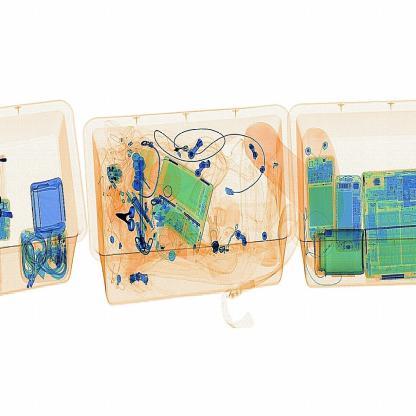gun: (110, 196, 142, 242)
